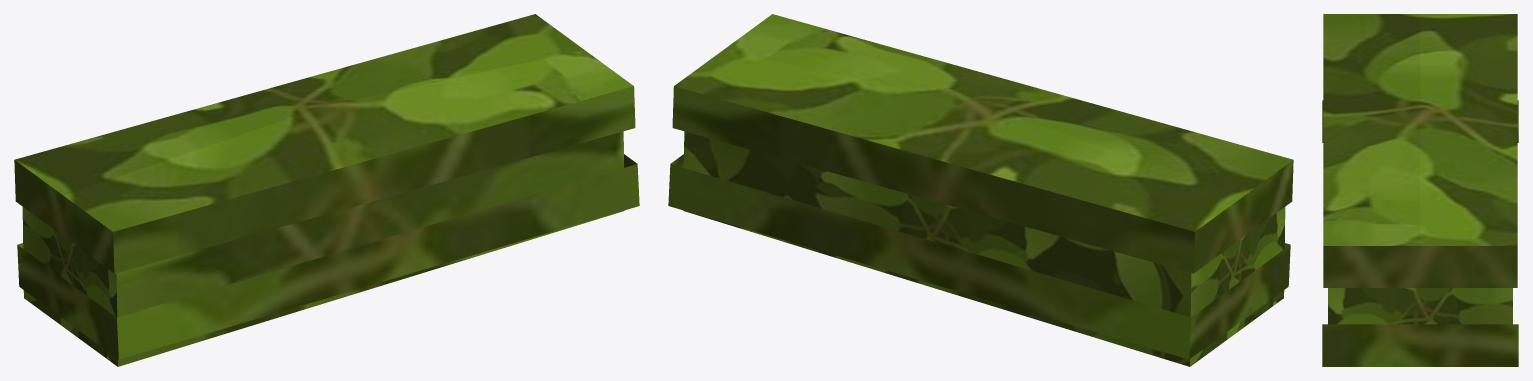
The model's file is Bloque hojas.fbx.
3 views of the same model, side by side, from view 1: azimuth 30°, elevation 25°; view 2: azimuth 150°, elevation 25°; view 3: azimuth 270°, elevation 25° (orthographic).
Visible parts, largest first — view 1: Cube.054; view 2: Cube.054; view 3: Cube.054.
Part boxes in pixels (x1,y1,x2,y2): Cube.054: (14,14,639,366); Cube.054: (668,14,1293,366); Cube.054: (1322,14,1518,366).
Bounding box in the file's own units: 463 × 138 × 152.
